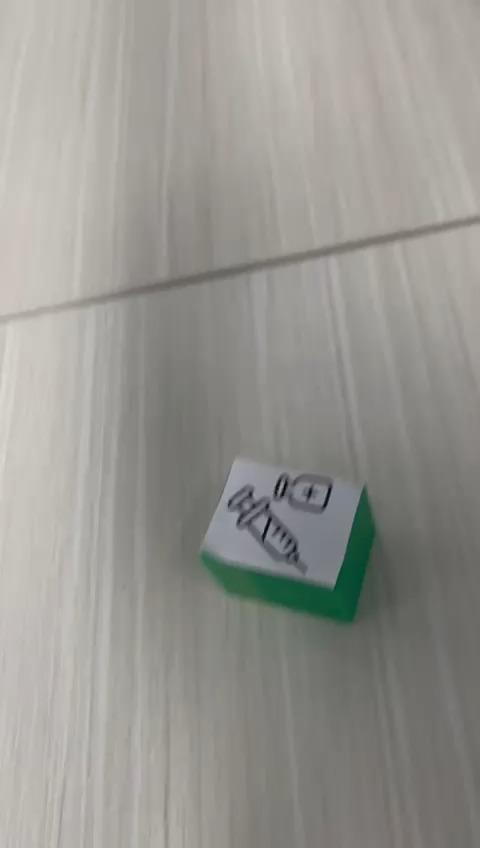antiseptic cream: (197, 454, 376, 622)
